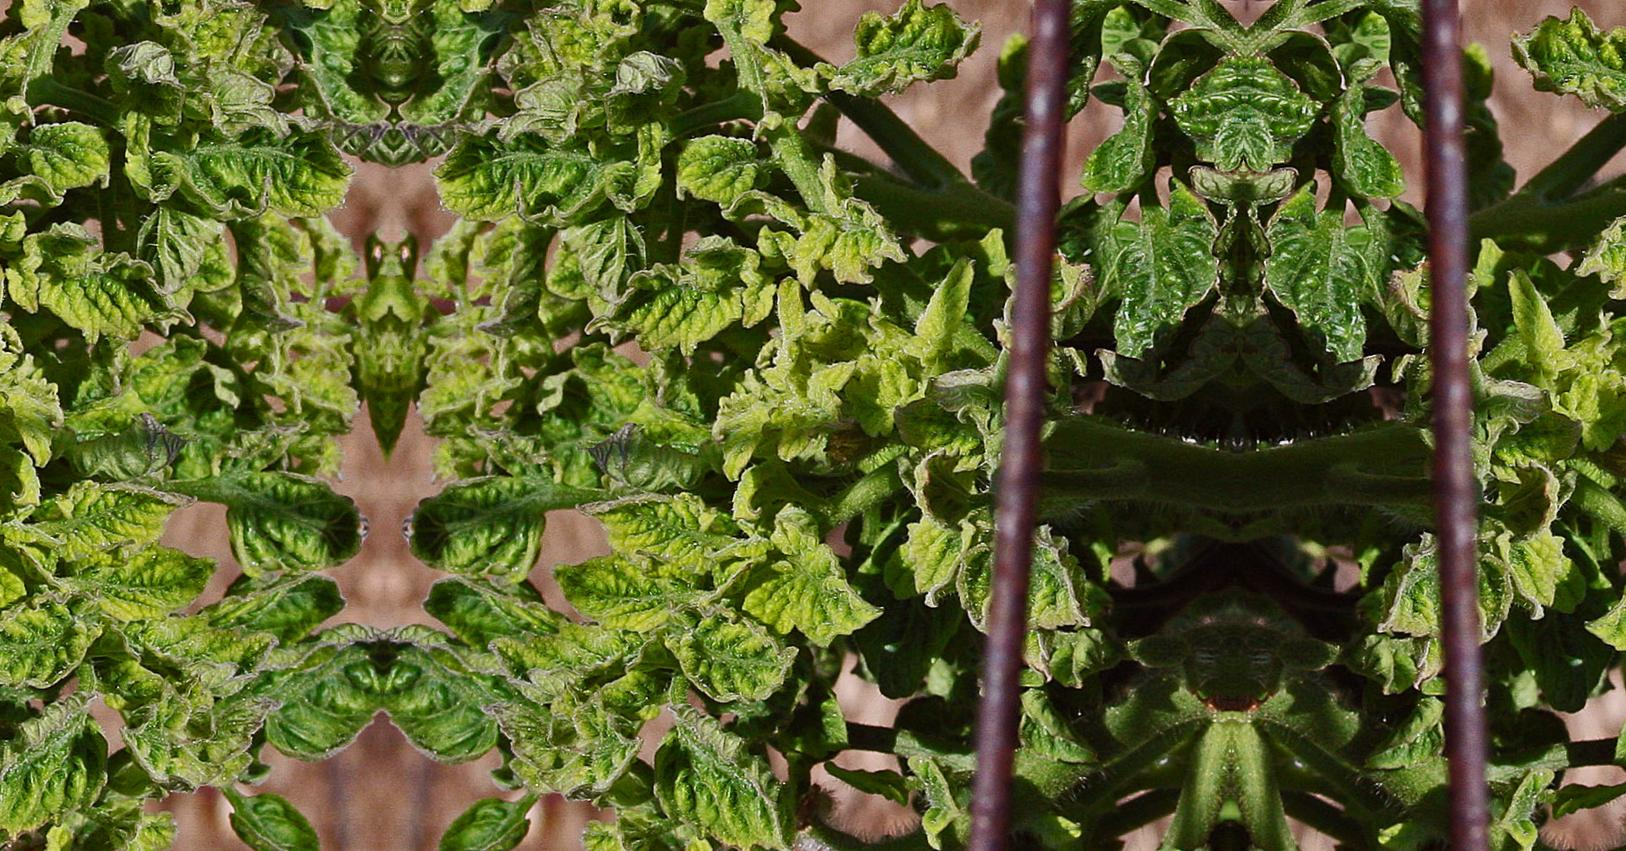Tomato leaf yellow virus: (1092, 147, 1244, 372), (384, 436, 564, 599), (380, 592, 523, 788), (586, 236, 808, 354), (652, 694, 811, 851), (432, 111, 624, 228), (640, 583, 808, 714), (753, 513, 896, 651), (711, 354, 869, 478), (823, 0, 988, 108), (1137, 15, 1247, 176), (526, 552, 734, 634), (595, 479, 764, 579), (890, 446, 985, 600), (675, 106, 778, 210), (913, 241, 985, 372), (698, 0, 822, 62), (395, 0, 556, 39), (1121, 851, 1230, 851)
